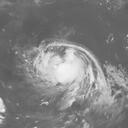cyclone: (28, 41, 93, 93)
